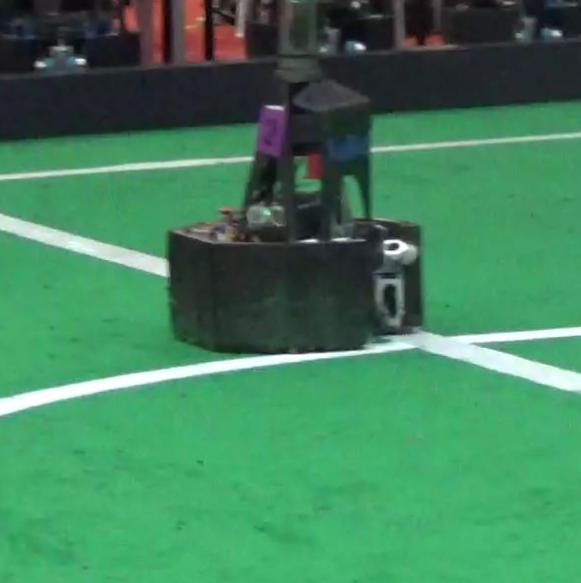robot: (159, 1, 436, 361)
